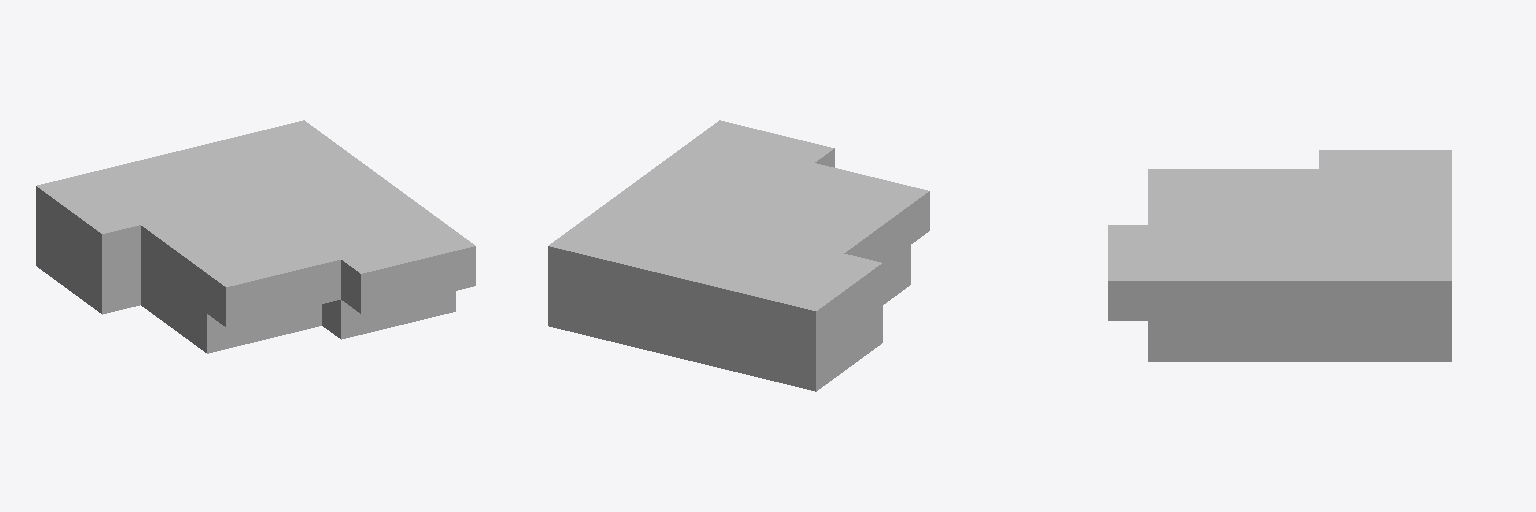
Rendered from platform2.obj.
3 views of the same model, side by side, from view 1: azimuth 30°, elevation 25°; view 2: azimuth 150°, elevation 25°; view 3: azimuth 270°, elevation 25° (orthographic).
Parts seen in each view (by area): view 1: Cube.002; view 2: Cube.002; view 3: Cube.002.
Boxes of the visible parts, box(x1,y1,x2,y2) form: Cube.002: box(36, 120, 475, 353); Cube.002: box(548, 120, 929, 391); Cube.002: box(1108, 150, 1451, 361).
Bounding box in the file's own units: 7 × 2 × 7.76.